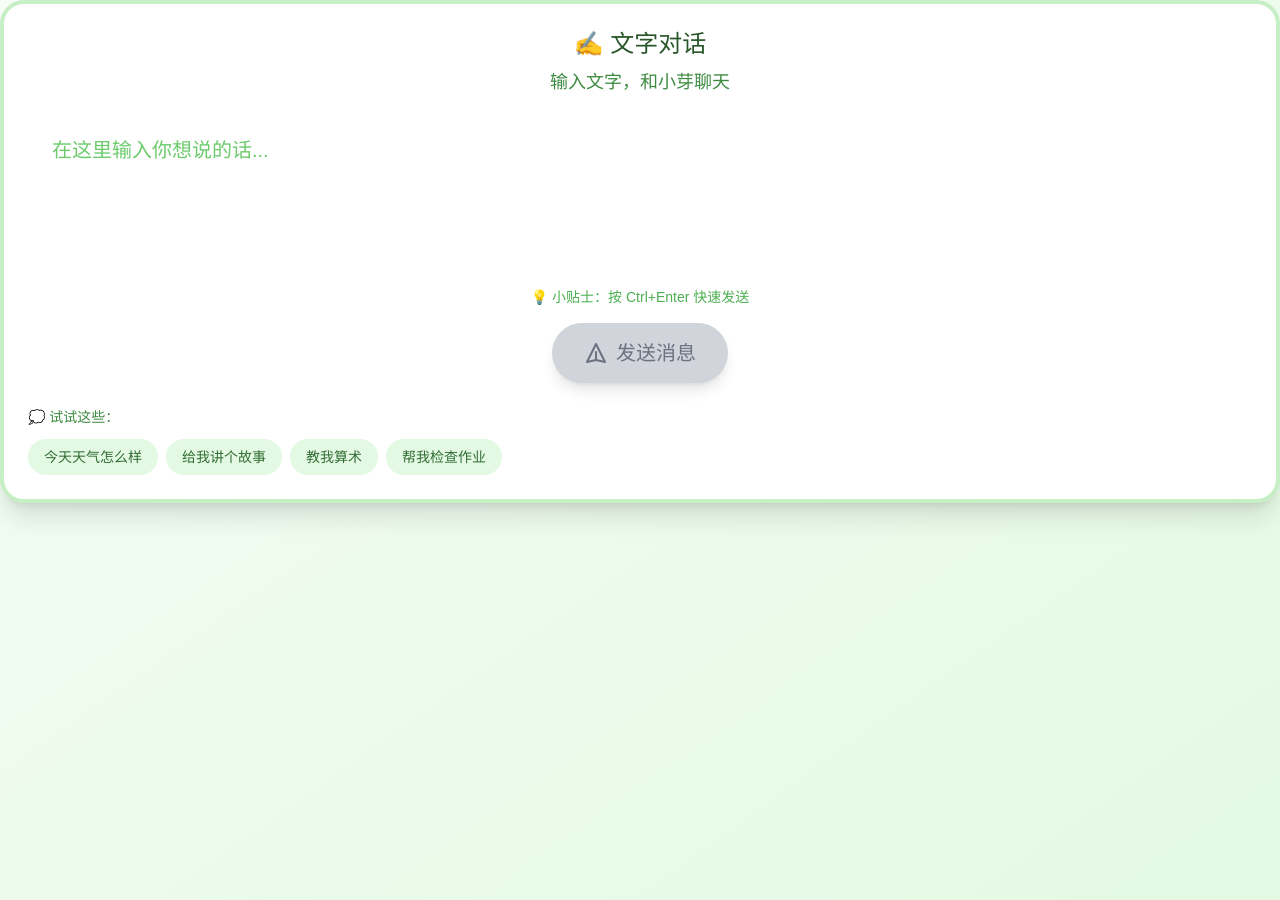
Test case: TextInteraction Component › 快捷输入建议 › 点击快捷建议应该填充输入框
The width and height of the screenshot is (1280, 900).
Click the button "今天天气怎么样": click(93, 457) [28, 439, 158, 475]
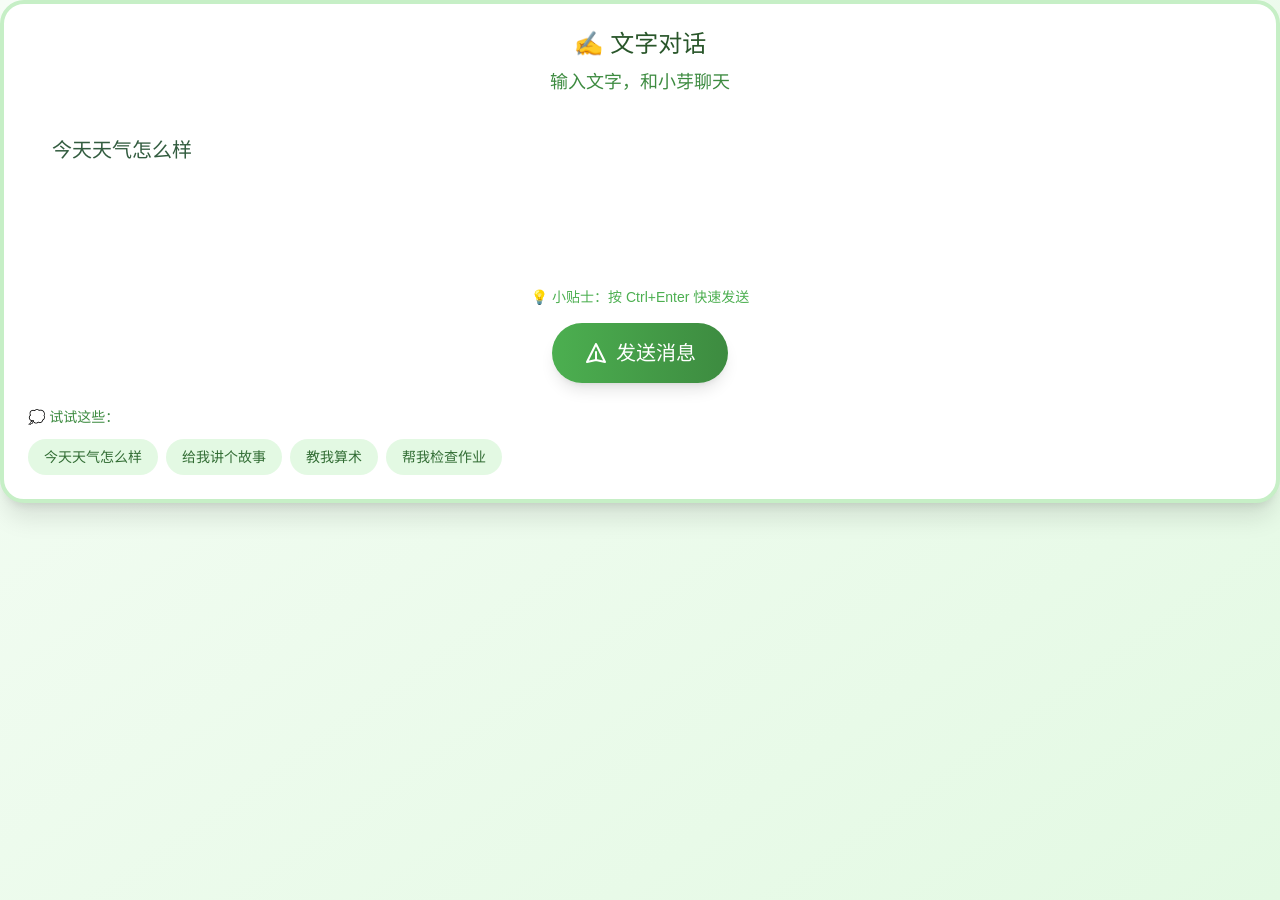
Check: the text box with placeholder "在这里输入你想说的话..." holds "今天天气怎么样", box [28, 120, 1252, 264]
